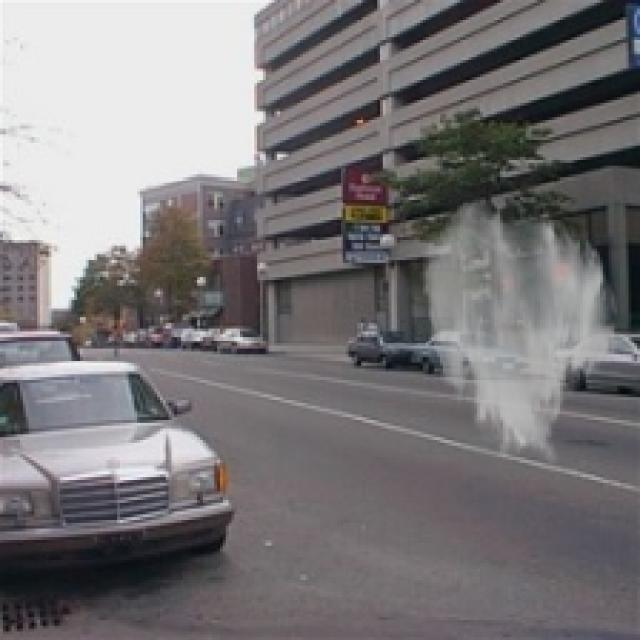smoke: (420, 194, 620, 469)
